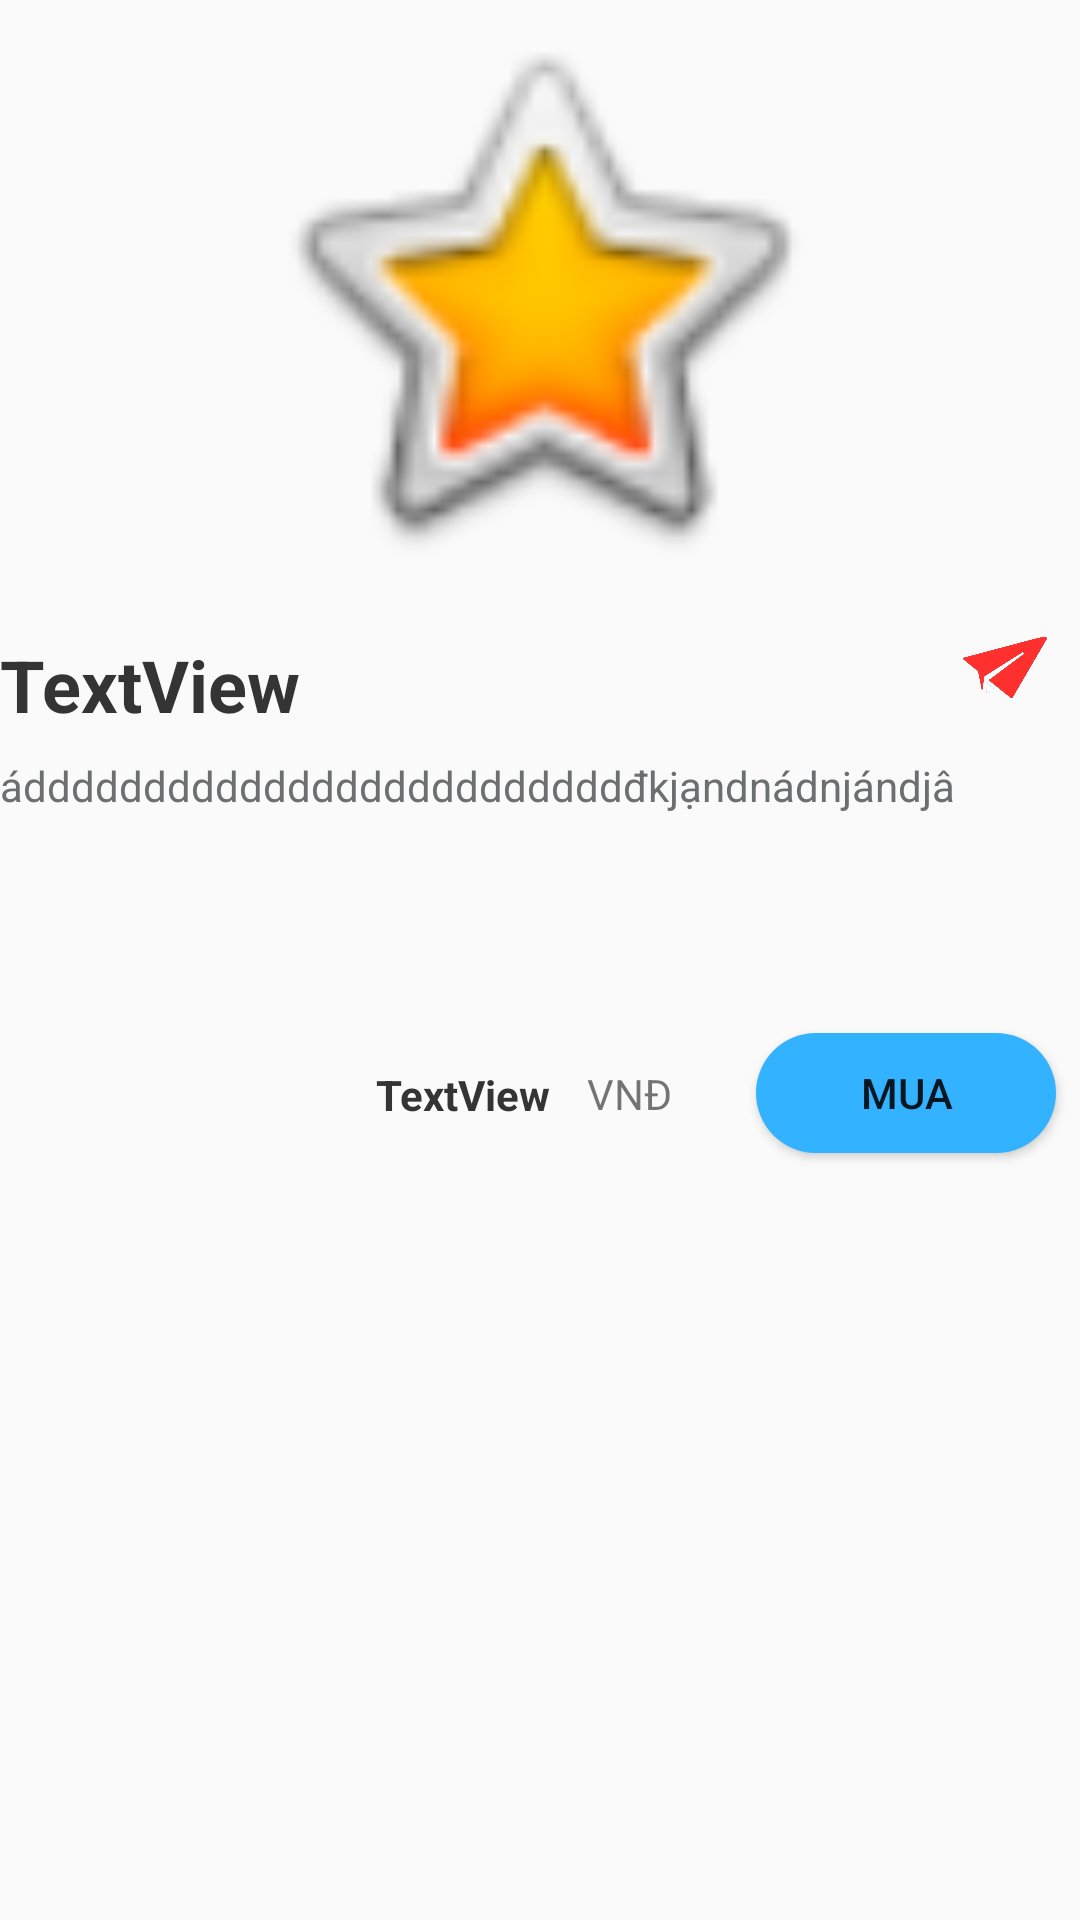

Screen size 1080w x 1920h. Icon name, then its center in pixels as [x,y]:
paper plane: [1005,667]
